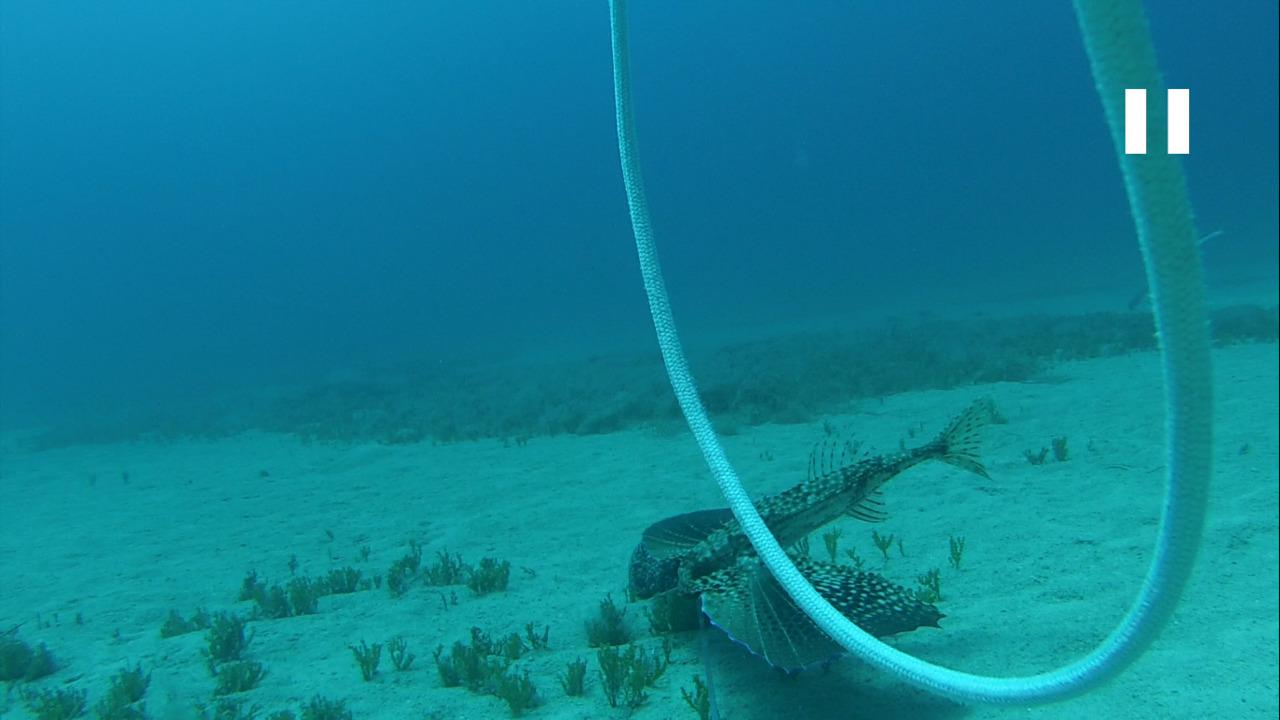dactylopterus: (630, 406, 974, 668)
